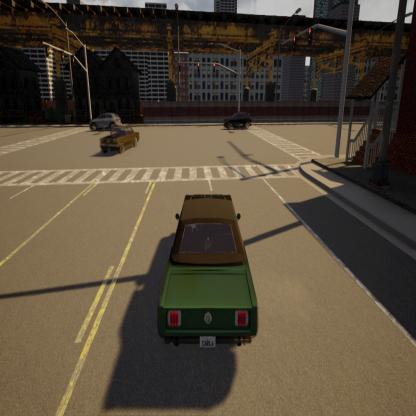Cars: (148, 188, 264, 356), (103, 126, 141, 158), (88, 106, 126, 132), (223, 109, 256, 131)
